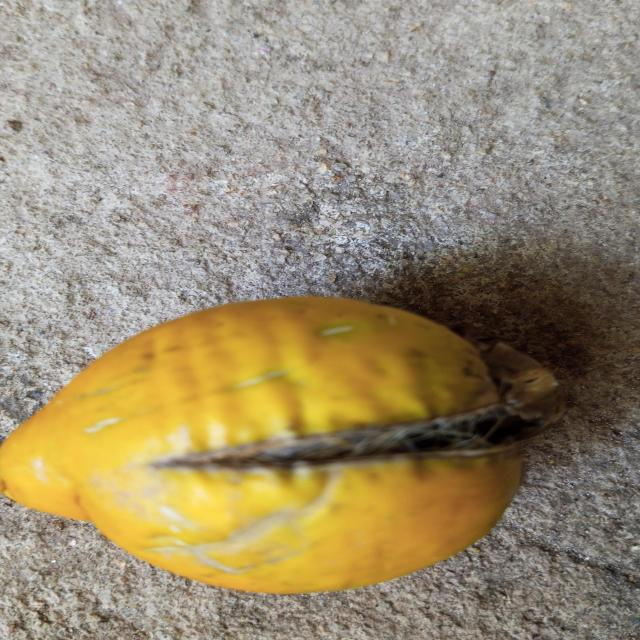damaged: (0, 295, 563, 597)
